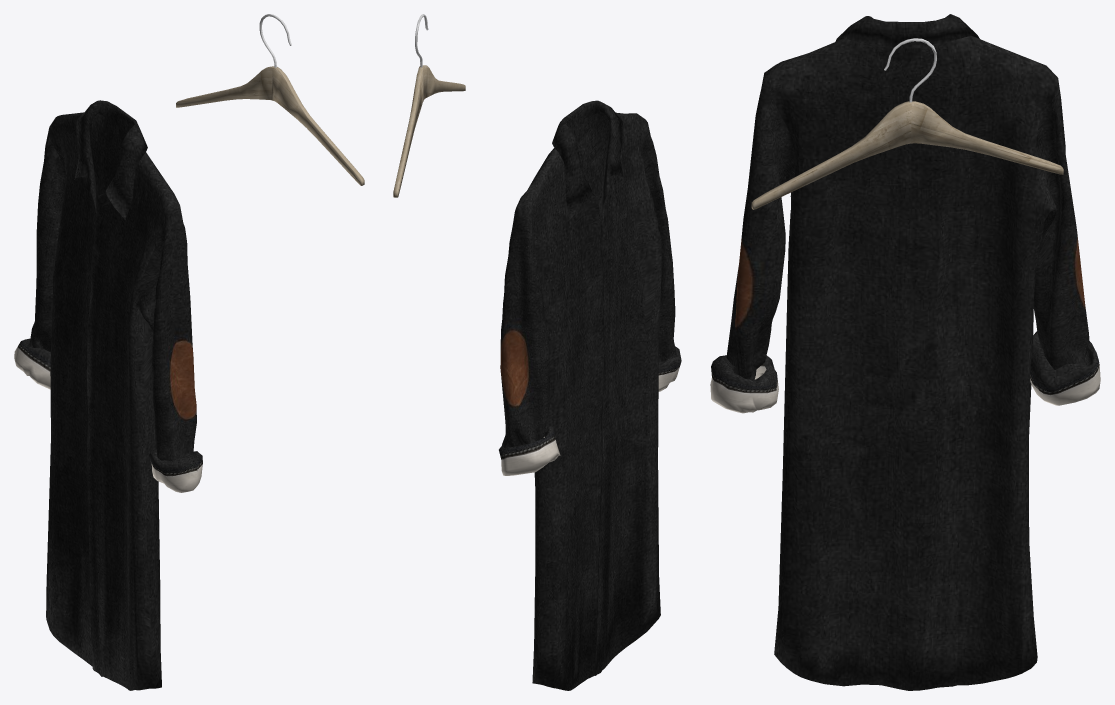
File: rod-shirt03.glb
3 views of the same model, side by side, from view 1: azimuth 30°, elevation 25°; view 2: azimuth 150°, elevation 25°; view 3: azimuth 270°, elevation 25° (orthographic). The views are drawn at different scales.
Parts seen in each view (by area): view 1: shirt03.001, Hangers_for_clothes081.001; view 2: shirt03.001, Hangers_for_clothes081.001; view 3: shirt03.001, Hangers_for_clothes081.001.
Part boxes in pixels (x1=…): shirt03.001: x1=14, y1=100, x2=202, y2=690; Hangers_for_clothes081.001: x1=176, y1=14, x2=364, y2=185; shirt03.001: x1=499, y1=100, x2=681, y2=690; Hangers_for_clothes081.001: x1=393, y1=14, x2=465, y2=197; shirt03.001: x1=710, y1=14, x2=1100, y2=690; Hangers_for_clothes081.001: x1=751, y1=38, x2=1063, y2=209.
Bounding box in the file's own units: 0.4207 × 1.13 × 0.5298.
3 materials, 2 textured.
